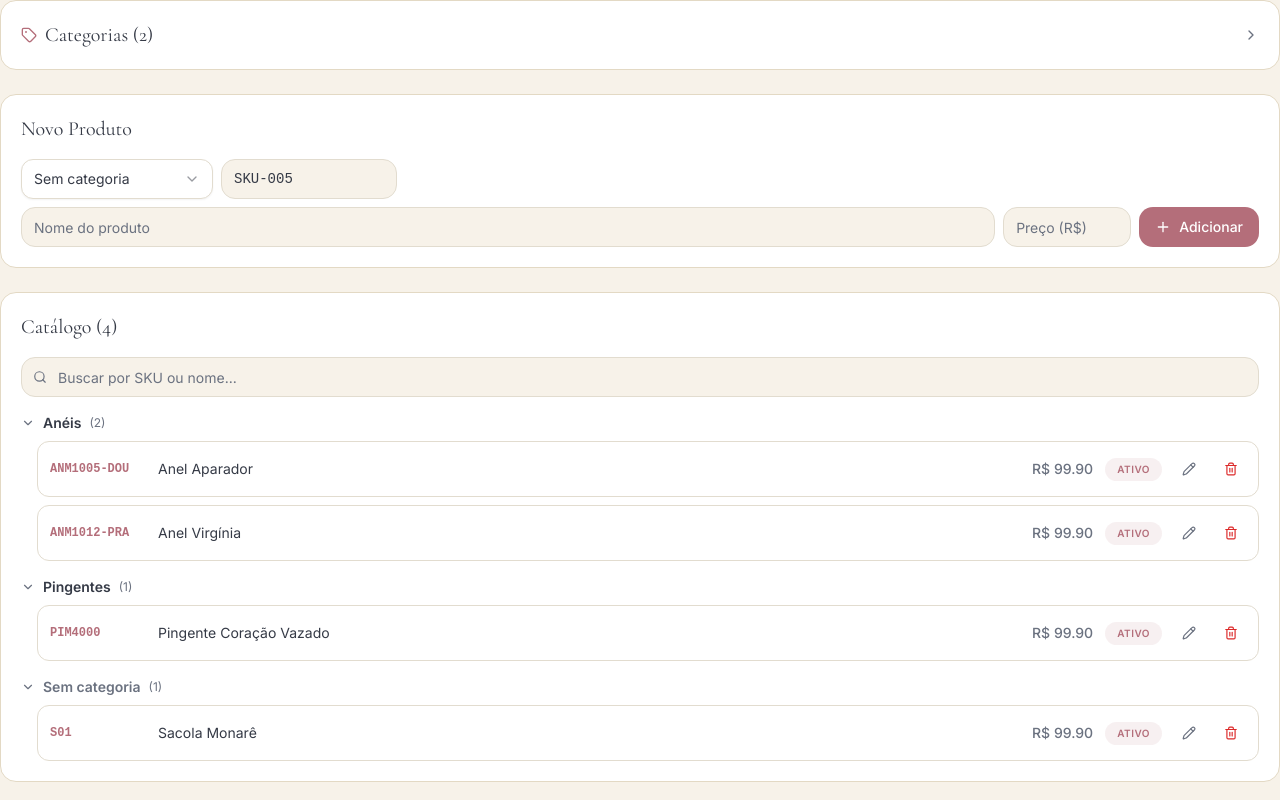
Scenario: Produtos · busca por SKU ou nome › mostra o total filtrado no cabeçalho e restaura ao limpar
Expected: the heading "Catálogo (4)" is shown, [21, 315, 117, 339]
Type "anel" into the field with placeholder "Buscar por SKU ou nome..." at (640, 377), box [21, 357, 1259, 397]
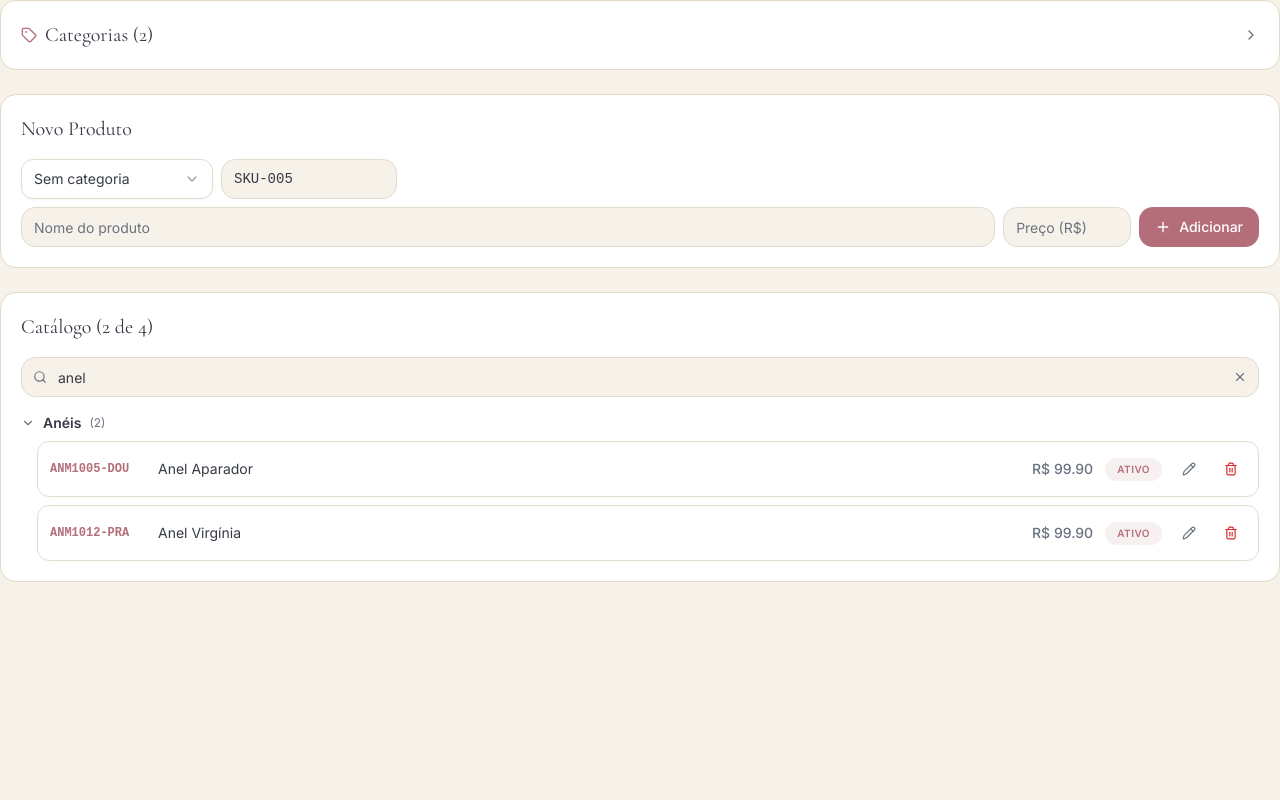
Expected: the heading "Catálogo (2 de 4)" is shown, [21, 315, 153, 339]
Click the button named "Limpar busca" at (1240, 377), box [1229, 366, 1251, 388]
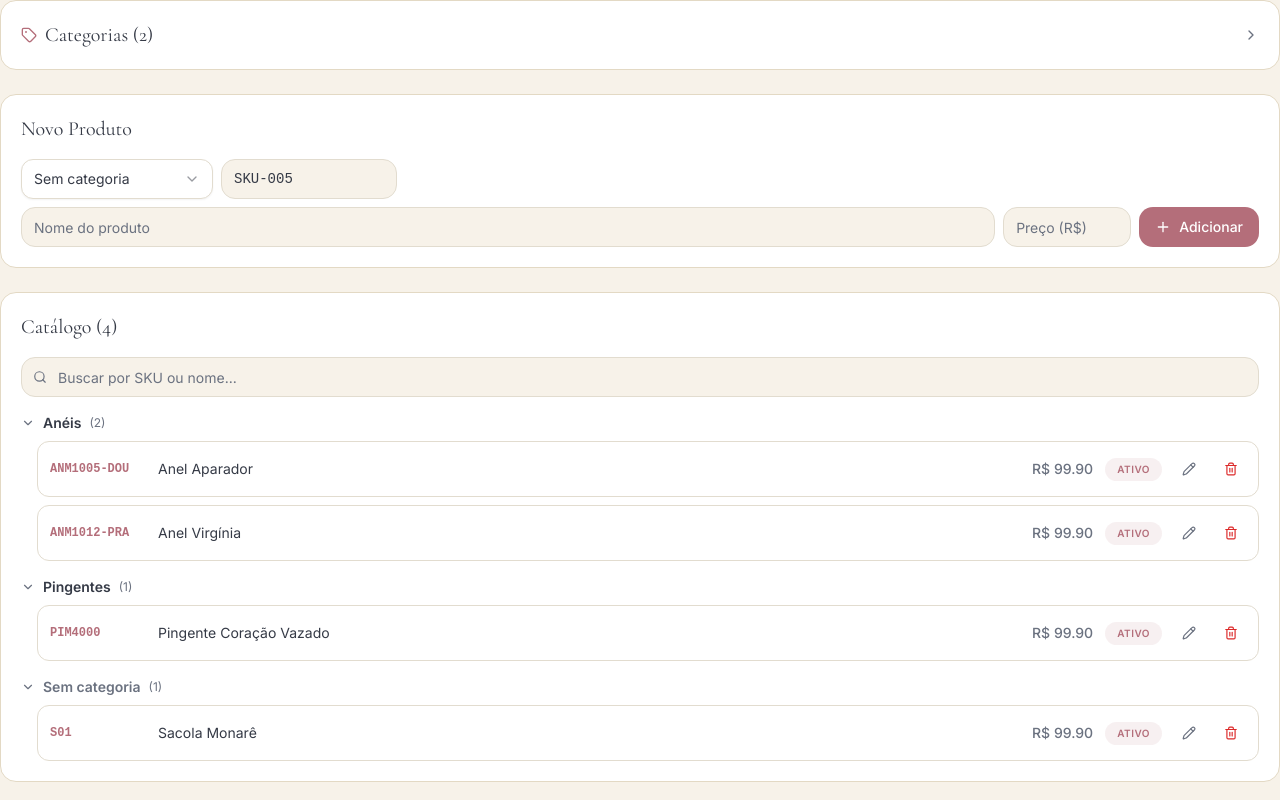
Expected: the heading "Catálogo (4)" is shown, [21, 315, 117, 339]
Expected: the text "S01" is shown, [50, 726, 72, 740]
